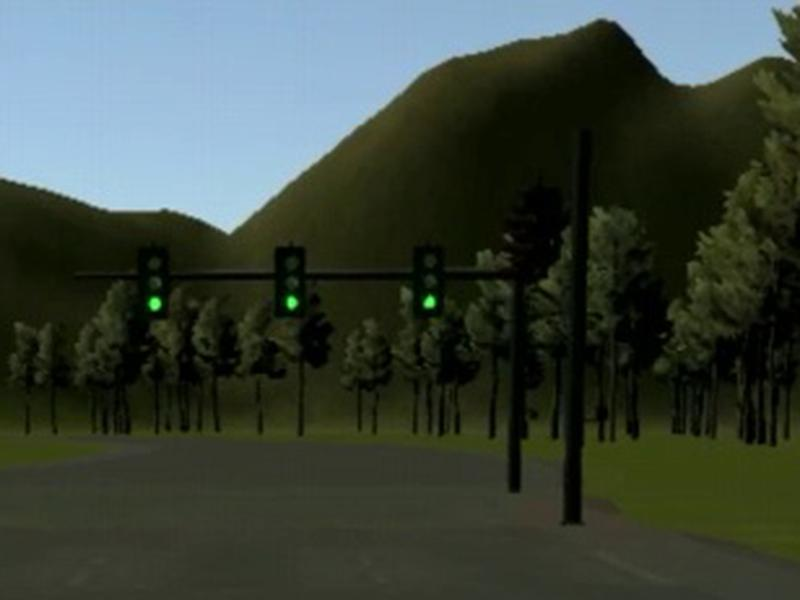Green: (137, 246, 170, 319), (275, 247, 307, 318), (414, 245, 444, 318)
